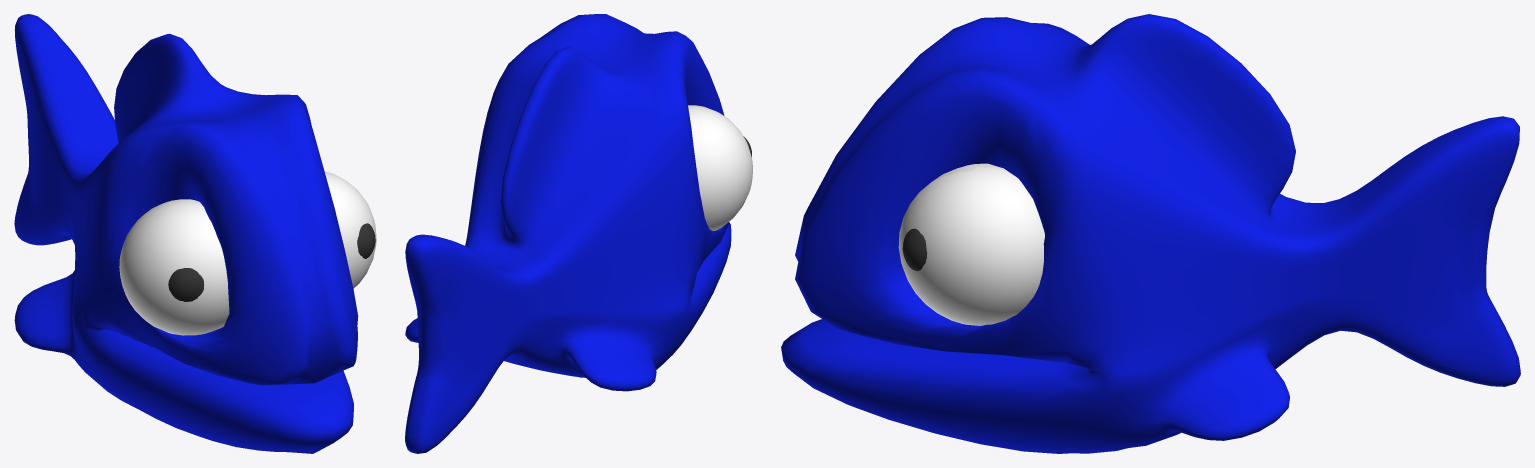
The model's file is fish.glb.
The picture shows the model from 3 angles, left to right: view 1: azimuth 30°, elevation 25°; view 2: azimuth 150°, elevation 25°; view 3: azimuth 270°, elevation 25°; orthographic projection. The views are drawn at different scales.
Visible parts, largest first — view 1: Cube, Sphere, Sphere.001; view 2: Cube, Sphere; view 3: Cube, Sphere, Sphere.001.
Boxes of the visible parts, x1,y1,x2,y2 form: Cube: (14, 14, 358, 453); Sphere: (119, 171, 376, 335); Sphere.001: (168, 223, 375, 301); Cube: (405, 14, 731, 453); Sphere: (688, 105, 752, 230); Cube: (781, 14, 1520, 453); Sphere: (898, 166, 1044, 325); Sphere.001: (902, 228, 927, 270).
Size of the model in its own units: 2.31 by 3.22 by 4.99.
